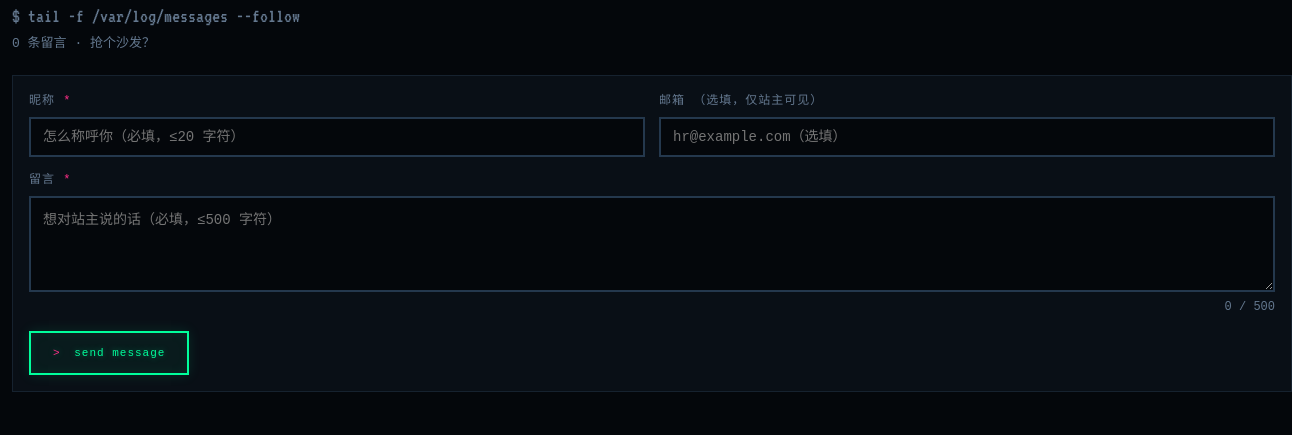
Test: 前端预校验（后端 400 双保险的前一道闸） › 邮箱格式不正确：字段错误提示且不调提交接口
The width and height of the screenshot is (1292, 435).
In the field named "nickname": (337, 137) [29,117,645,157], type "访客"
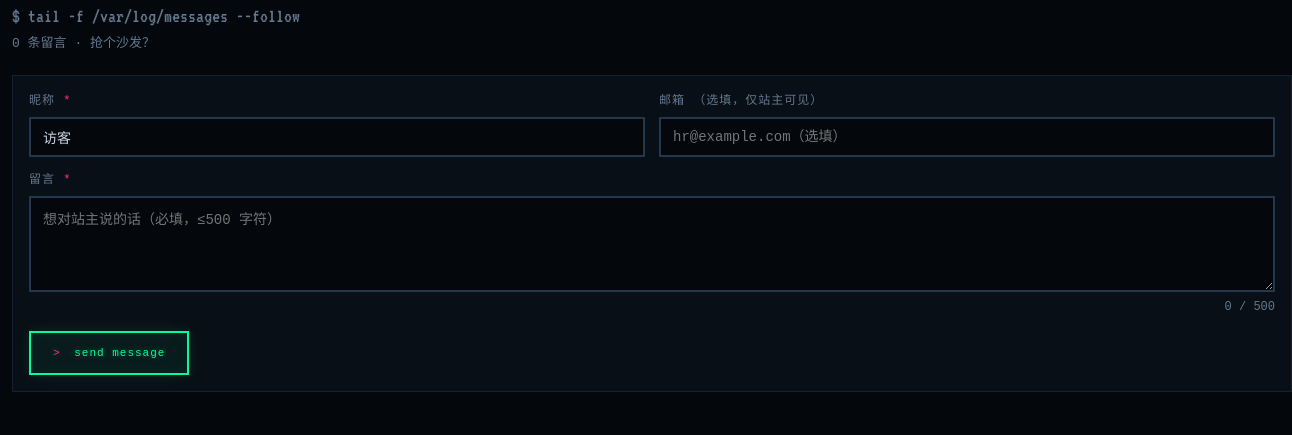
In the field named "email": (967, 137) [659,117,1275,157], type "not-an-email"
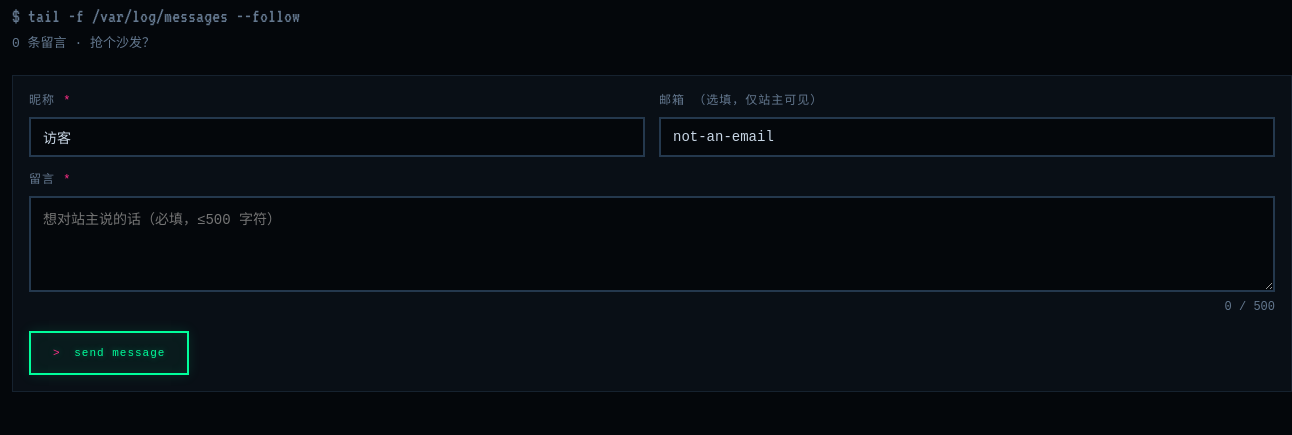
In the text box named "content": (652, 244) [29,196,1275,292], type "你好"
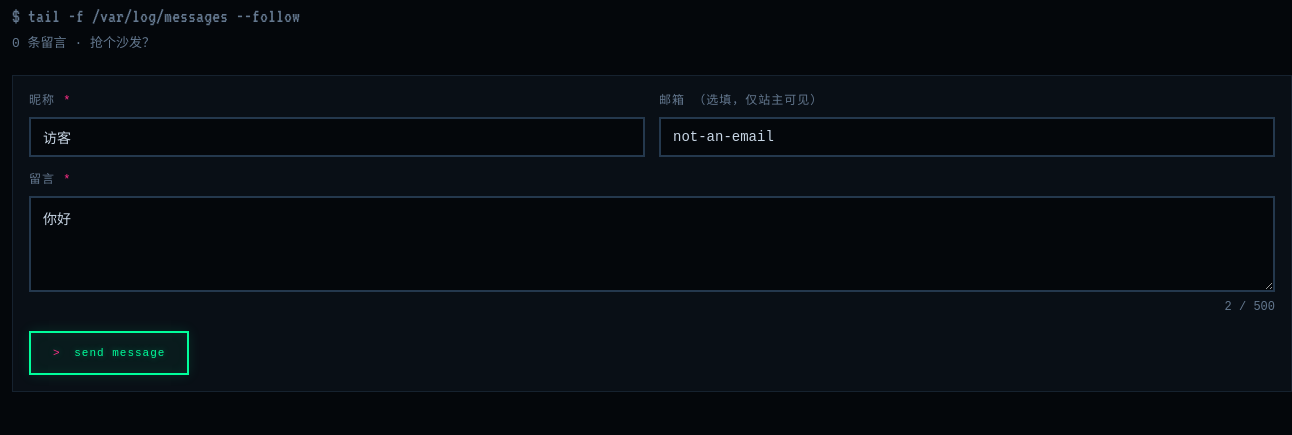
Submit the form
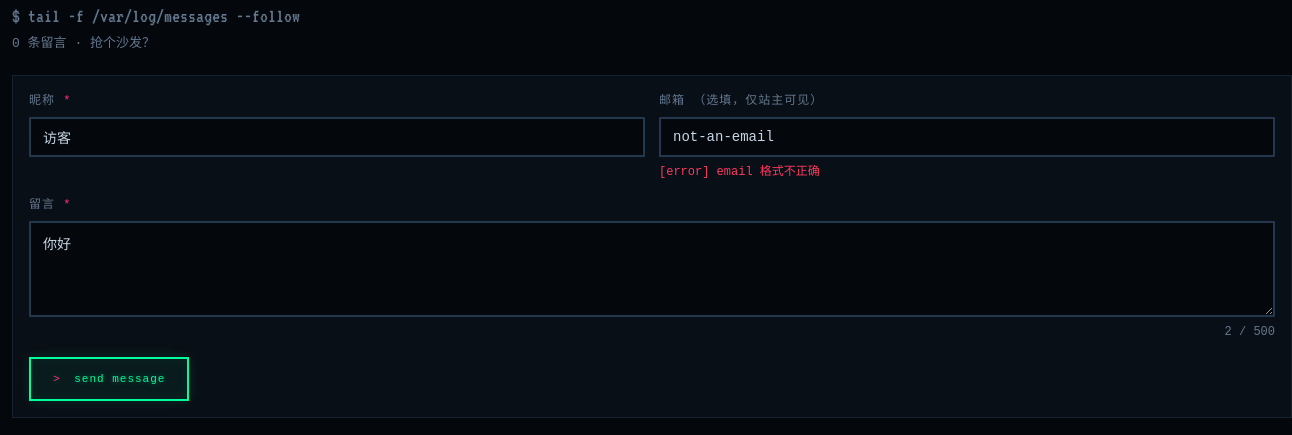
Expected: the text "email 格式不正确" is shown, [659,165,820,179]
